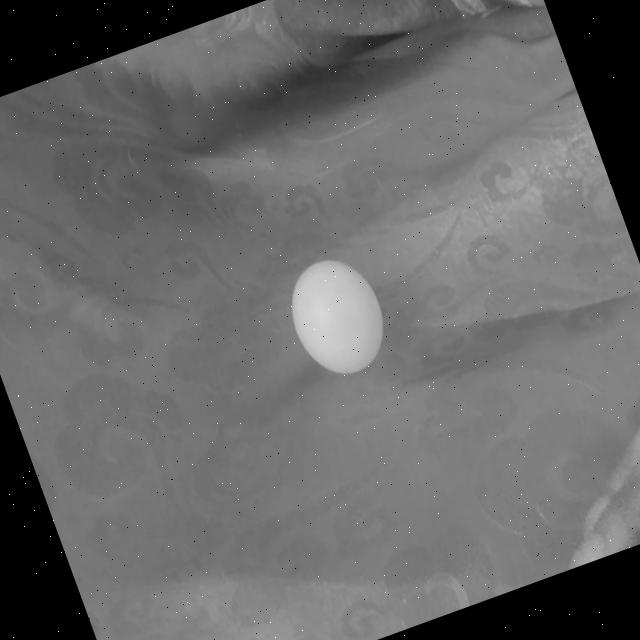ping-pong-ball: (276, 248, 398, 385)
